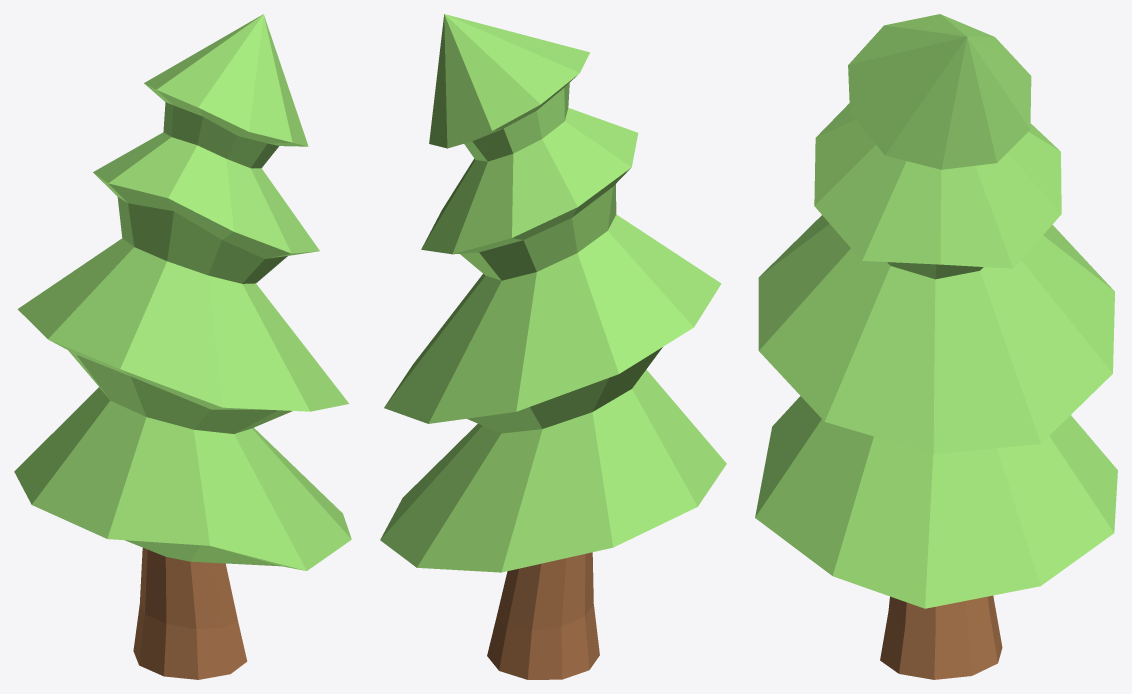
The model's file is Tree4Rot.fbx.
3 renders of one model, left to right at view 1: azimuth 30°, elevation 25°; view 2: azimuth 150°, elevation 25°; view 3: azimuth 270°, elevation 25°, orthographic. The views are drawn at different scales.
Parts seen in each view (by area): view 1: Tree4Rot; view 2: Tree4Rot; view 3: Tree4Rot.
Boxes of the visible parts, left/top/right/bottom form: Tree4Rot: left=14, top=14, right=351, bottom=679; Tree4Rot: left=380, top=14, right=726, bottom=679; Tree4Rot: left=755, top=14, right=1117, bottom=679.
Bounding box in the file's own units: 255 × 499 × 248.
